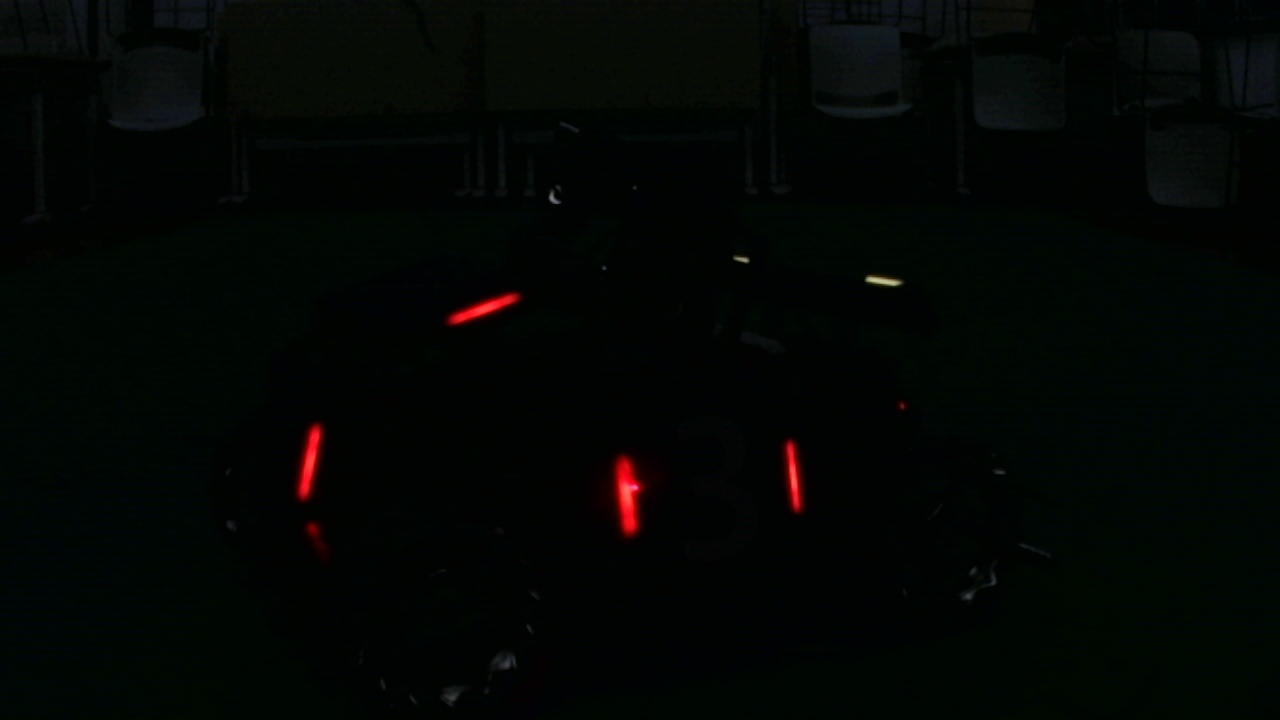lamp: (612, 449, 649, 534), (293, 420, 325, 504), (776, 435, 805, 514)
notpair1: (296, 421, 651, 536)
pair1: (612, 434, 803, 531)
